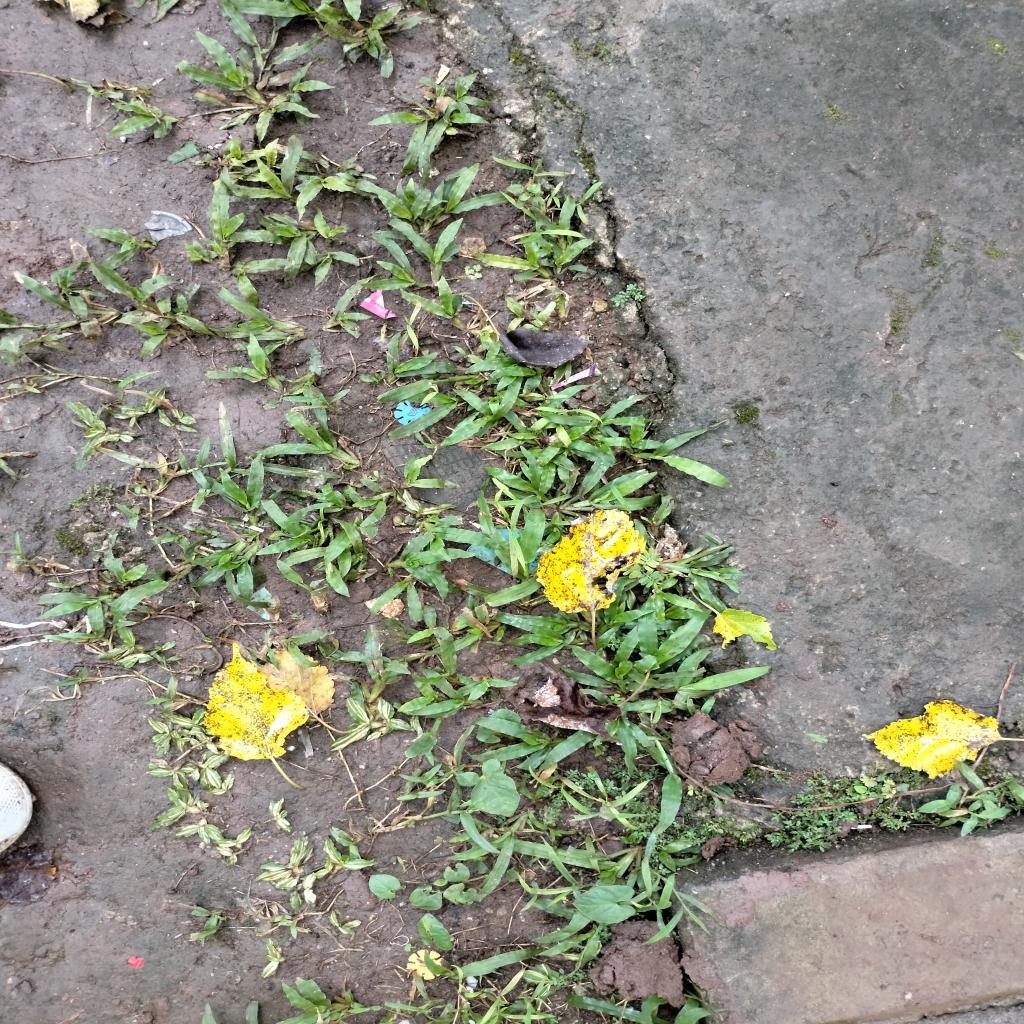buah daun: (618, 543, 668, 591)
clover: (609, 691, 622, 703)
lumut besar: (767, 770, 864, 854), (608, 280, 650, 310)
masker: (472, 264, 484, 272), (473, 272, 484, 278), (468, 275, 478, 281), (468, 268, 476, 275), (463, 266, 471, 270)
rambat atas: (919, 756, 1024, 838), (638, 870, 730, 948), (374, 802, 505, 856), (555, 775, 650, 821), (456, 984, 547, 1024), (174, 434, 229, 490), (514, 872, 592, 906), (0, 527, 47, 575), (280, 387, 352, 415), (113, 500, 151, 533), (395, 760, 447, 784), (44, 668, 95, 688), (393, 787, 449, 803)
rambat bawah: (567, 643, 775, 779), (180, 0, 340, 144), (86, 252, 214, 361), (375, 72, 496, 179), (254, 497, 375, 598), (0, 265, 123, 361), (376, 161, 511, 238), (464, 360, 584, 442), (181, 185, 289, 275), (313, 0, 428, 79), (316, 620, 417, 709), (245, 394, 365, 467), (380, 524, 482, 608), (628, 416, 738, 490), (208, 276, 312, 354), (178, 533, 274, 612), (557, 455, 667, 522), (656, 536, 745, 617), (455, 714, 573, 774), (470, 236, 600, 285), (218, 133, 304, 204), (479, 442, 569, 509), (385, 216, 466, 289), (496, 608, 588, 667), (200, 450, 266, 532), (204, 333, 286, 398), (395, 666, 488, 718), (26, 590, 122, 638), (358, 332, 442, 386), (259, 209, 325, 275), (397, 270, 469, 330), (420, 944, 544, 978), (522, 190, 578, 256), (322, 272, 374, 342), (82, 226, 164, 270), (105, 97, 182, 143), (386, 452, 466, 492), (296, 171, 364, 218), (600, 408, 669, 453), (100, 534, 154, 590), (347, 474, 397, 530), (299, 250, 365, 290), (448, 673, 522, 701), (310, 204, 352, 242)
